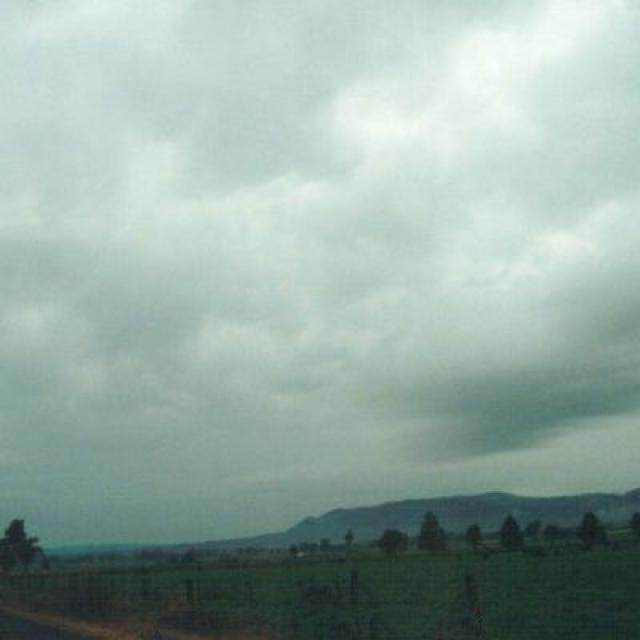Ns: (1, 29, 640, 436)
